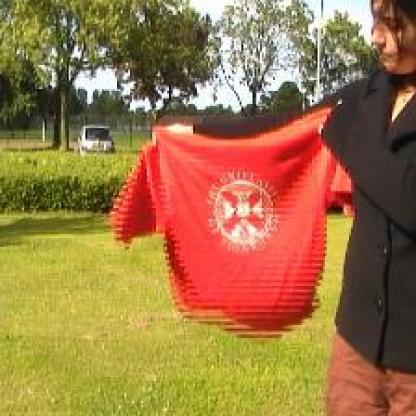other: (98, 107, 367, 333)
